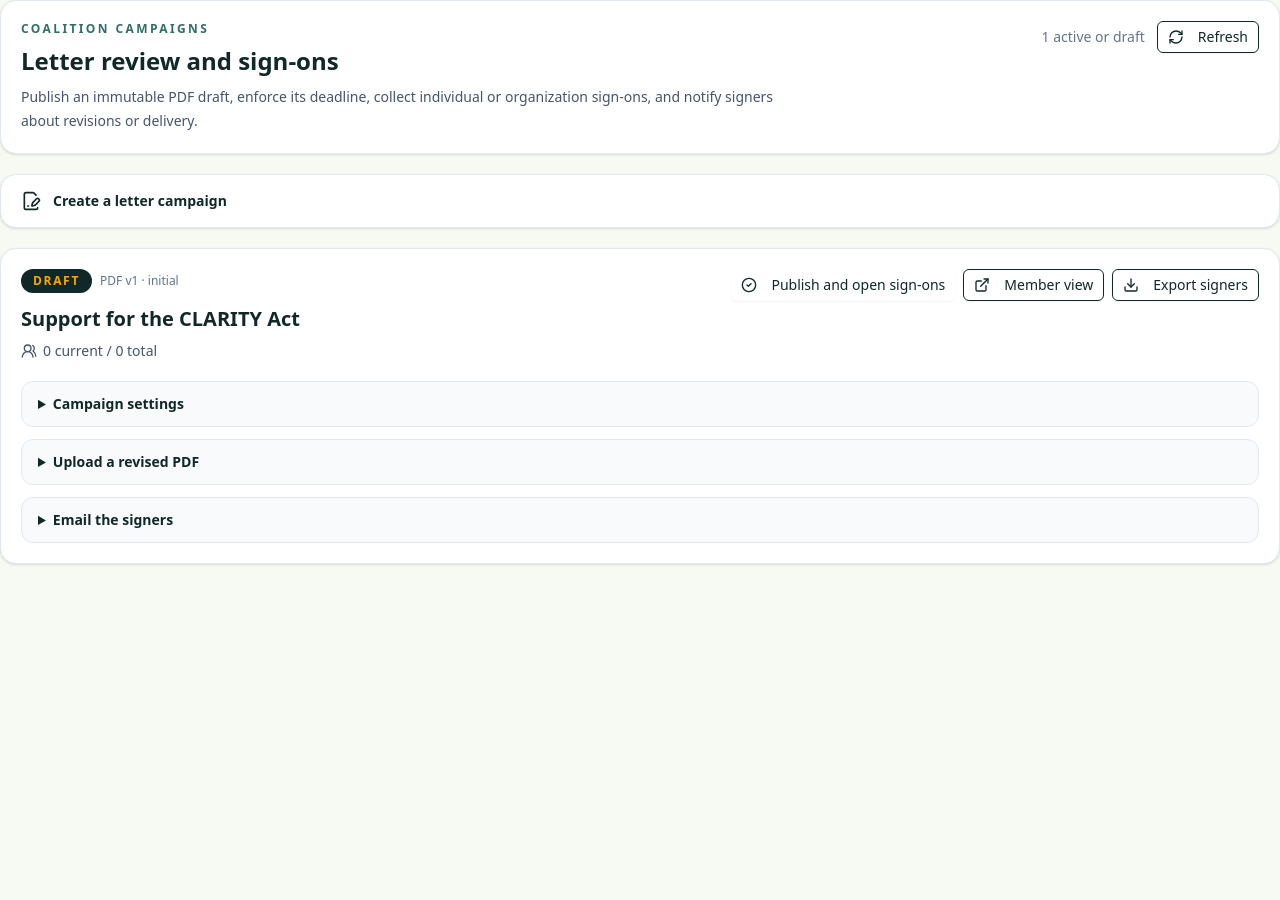
LetterCampaignPanel publishing › publishes a draft through a prominent guarded action
Click the button "Publish and open sign-ons".
click(843, 285)  # box [731,269,955,301]
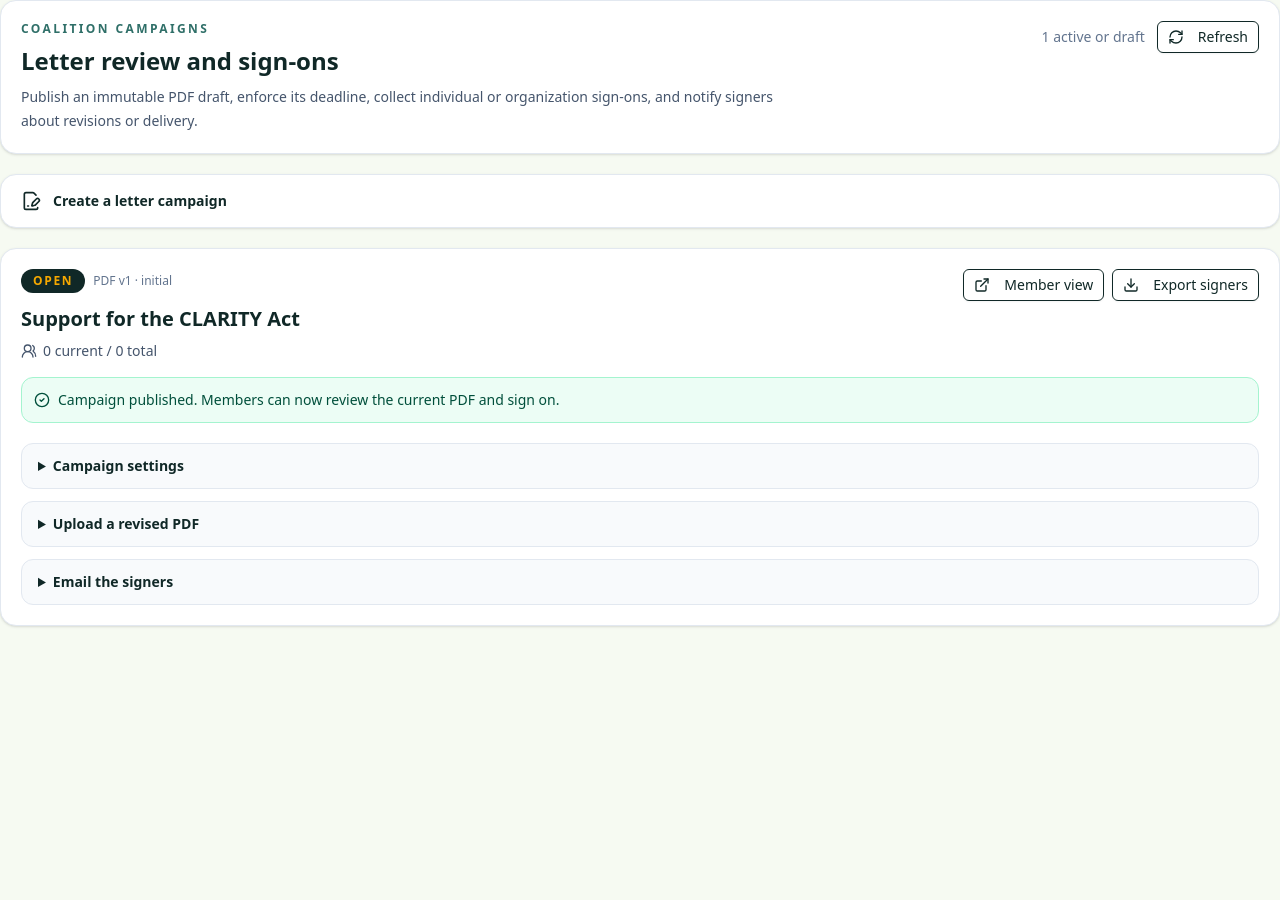
expect the text "Campaign published. Members can now review the current PDF and sign on." is shown: met, box [21,377,1259,423]
expect the button "Publish and open sign-ons" is gone: met
